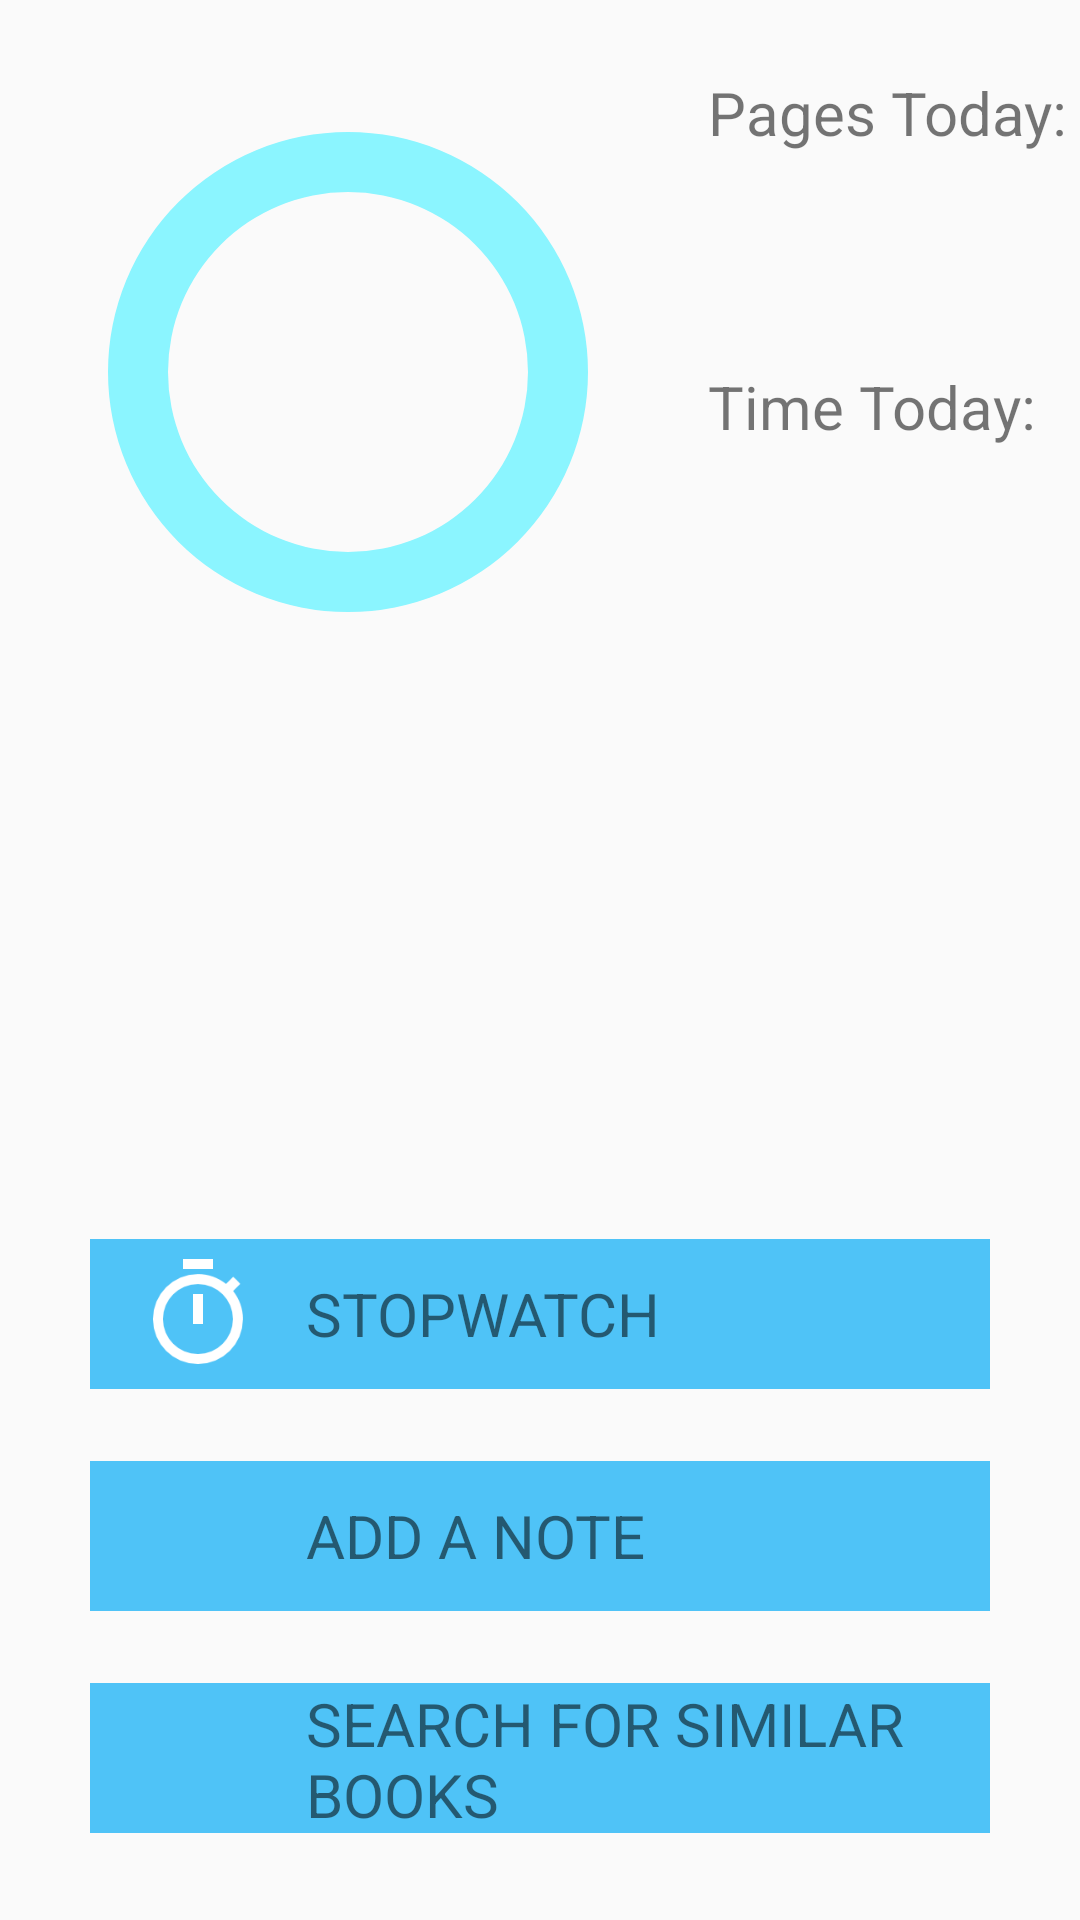

Locate icon controls on the screen. Image size 1080×1920, boxes as bbox=[x1, y1, x2, y2].
timer image: bbox=[153, 1259, 243, 1364]
